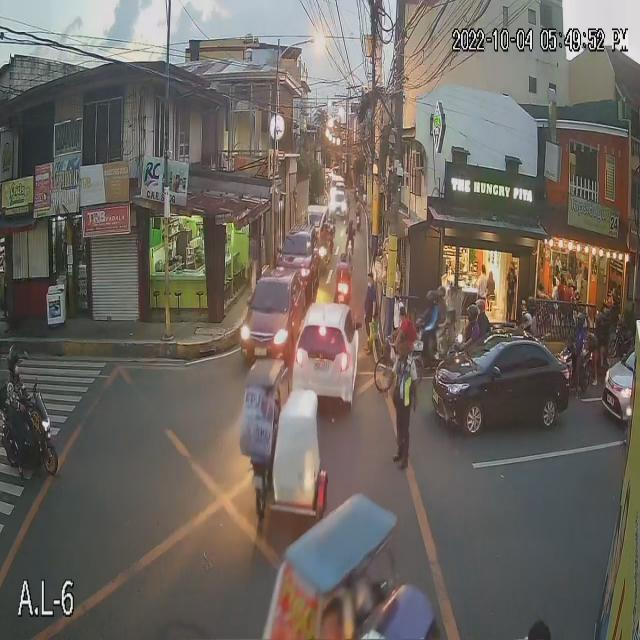helmet: (6, 348, 29, 378), (461, 303, 480, 328), (574, 309, 595, 330), (433, 286, 452, 308), (422, 289, 440, 312), (472, 297, 488, 322), (600, 304, 617, 324), (522, 312, 535, 331), (338, 260, 348, 272), (347, 217, 356, 227)
motorcycle: (0, 384, 58, 479), (557, 346, 591, 396), (336, 275, 352, 317), (344, 235, 358, 260), (354, 213, 364, 232)
rider: (5, 342, 32, 431), (459, 303, 480, 354), (591, 306, 615, 348), (434, 281, 453, 331), (516, 295, 539, 332), (569, 309, 588, 353), (422, 293, 440, 332), (476, 298, 492, 338), (337, 249, 351, 280), (344, 216, 357, 242), (354, 196, 363, 212)
